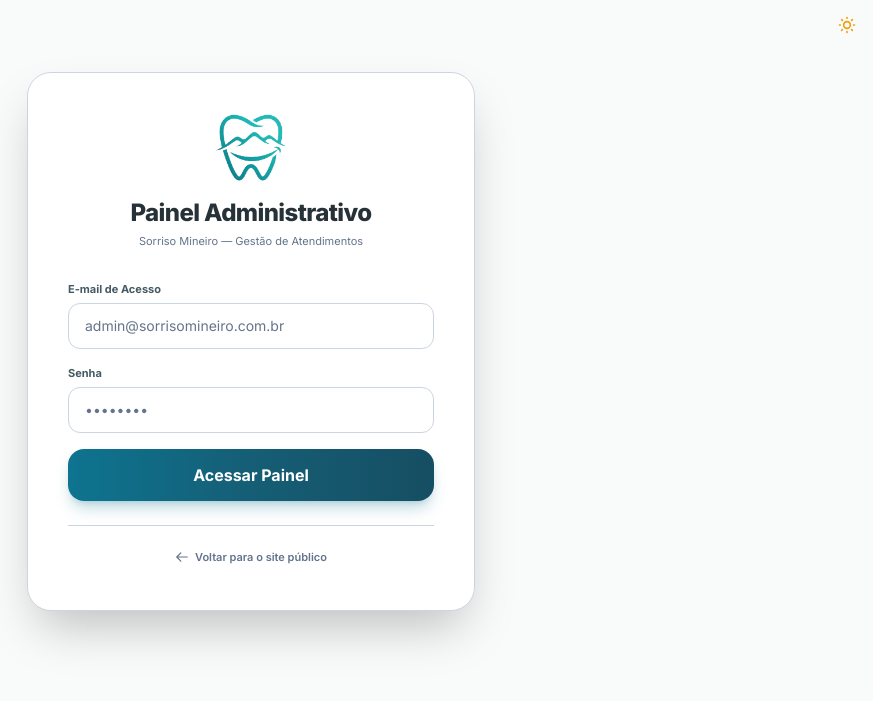
Scenario: LoginPage › deve limpar mensagem de erro anterior ao tentar submeter novamente
Step 1. Click the button "Acessar Painel" → click(251, 474), box [68,448,434,500]
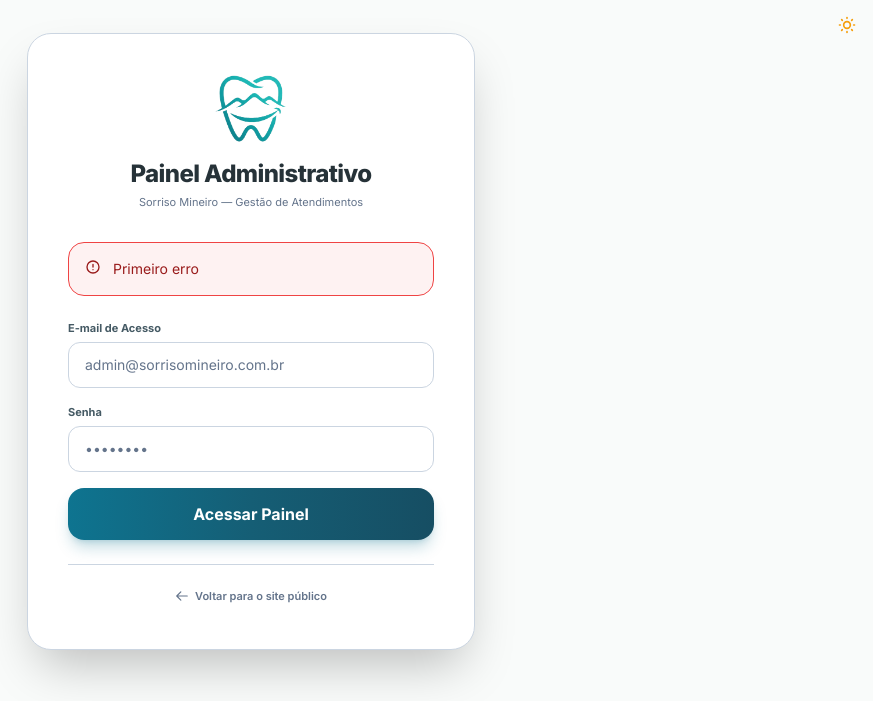
Check: the text "Primeiro erro" is shown, box [113,260,199,276]
Step 2. Click the button "Acessar Painel" → click(251, 514), box [68,488,434,540]
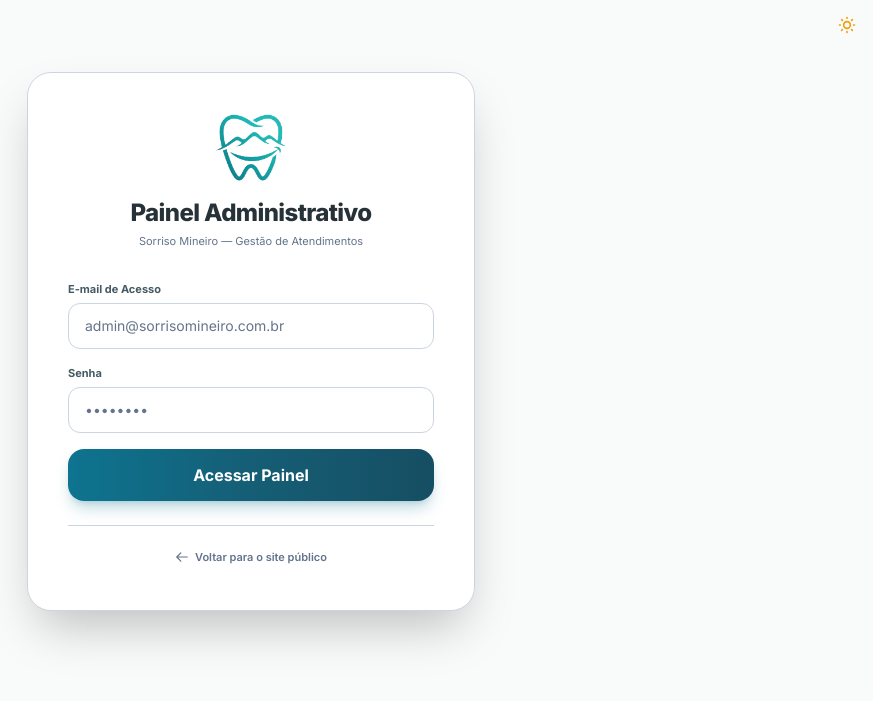
Check: the text "Primeiro erro" is gone
